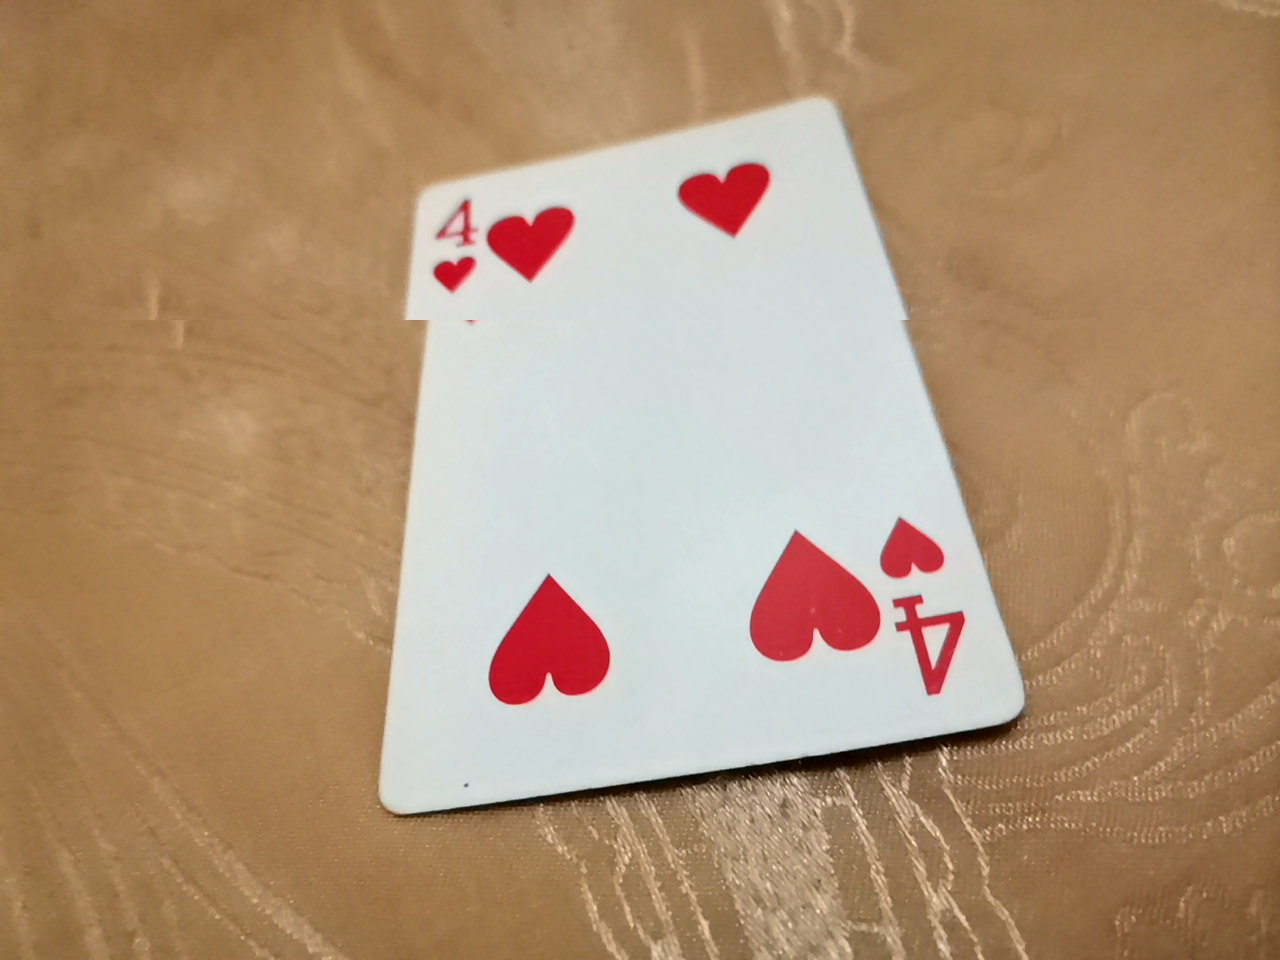hx 4: (342, 94, 1009, 818)
